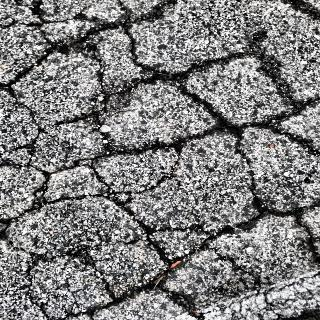alligator-crack: (7, 3, 320, 320)
